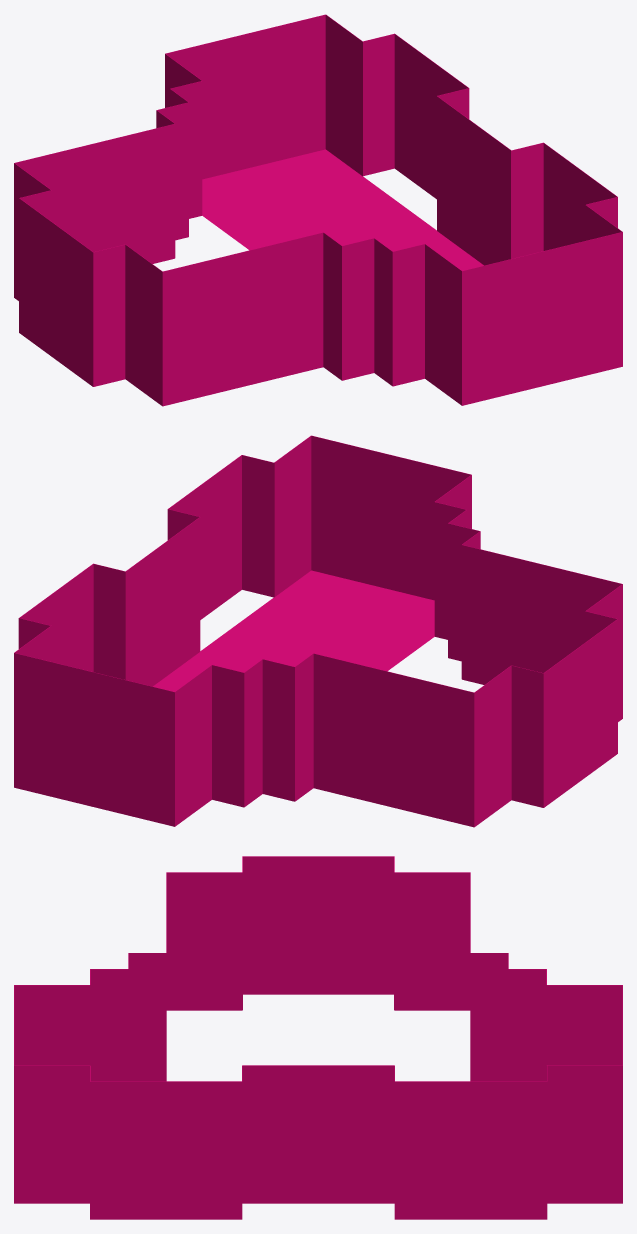
Rendered from blockwalls.glb.
3 views of the same model, one above another, from view 1: azimuth 30°, elevation 25°; view 2: azimuth 150°, elevation 25°; view 3: azimuth 270°, elevation 25° (orthographic). The views are drawn at different scales.
Visible parts, largest first — view 1: everything, wall16, Cube.001, wall5, wall3, wall1, wall11, wall7, wall8.001, wall6, wall2, wall14 (+5 smaller); view 2: everything, wall16, wall5, Cube.001, wall7, 1111.001, wall10.001, wall3, wall8.002, wall9, wall11.003, wall11.002 (+4 smaller); view 3: everything, wall2225.
Part boxes in pixels (bbox=[...]): everything: bbox=[14, 14, 622, 406]; wall16: bbox=[162, 232, 323, 405]; Cube.001: bbox=[166, 14, 325, 179]; wall5: bbox=[437, 96, 511, 265]; wall3: bbox=[394, 34, 468, 199]; wall1: bbox=[325, 15, 363, 176]; wall11: bbox=[425, 244, 462, 405]; wall7: bbox=[543, 143, 617, 250]; wall8.001: bbox=[93, 244, 125, 386]; wall6: bbox=[511, 143, 543, 258]; wall2: bbox=[363, 34, 394, 172]; wall14: bbox=[342, 238, 374, 378]; everything: bbox=[14, 435, 622, 827]; wall16: bbox=[462, 545, 622, 718]; wall5: bbox=[125, 517, 200, 686]; Cube.001: bbox=[14, 653, 174, 823]; wall7: bbox=[167, 455, 241, 619]; 1111.001: bbox=[174, 665, 211, 826]; wall10.001: bbox=[313, 666, 474, 822]; wall3: bbox=[20, 564, 93, 671]; wall8.002: bbox=[212, 665, 244, 807]; wall9: bbox=[274, 436, 311, 596]; wall11.003: bbox=[295, 653, 313, 801]; wall11.002: bbox=[244, 659, 262, 807]; everything: bbox=[14, 856, 622, 1219]; wall2225: bbox=[243, 856, 393, 968].
Size of the model in its own units: 224 by 64 by 256.
